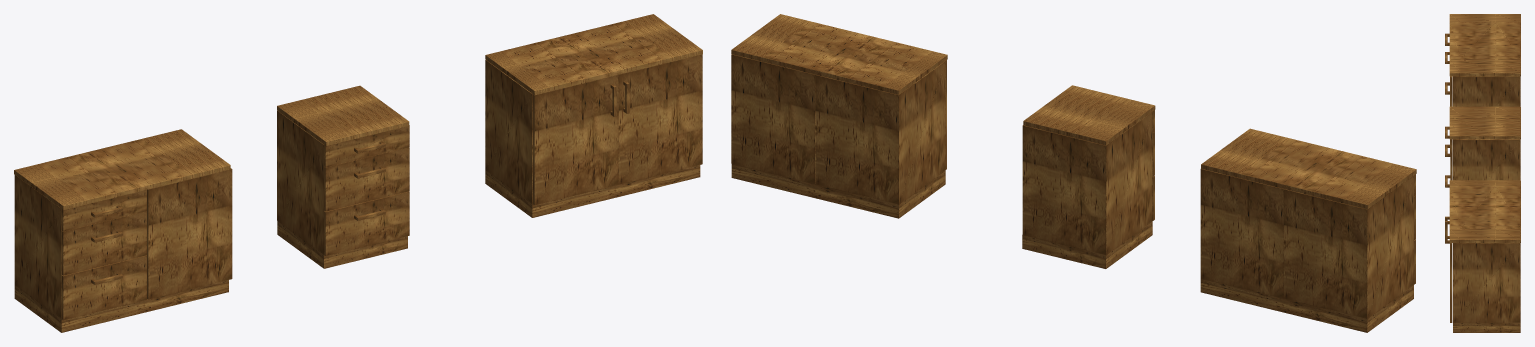
Rendered from Working_table.fbx.
The picture shows the model from 3 angles, left to right: view 1: azimuth 30°, elevation 25°; view 2: azimuth 150°, elevation 25°; view 3: azimuth 270°, elevation 25°; orthographic projection. The views are drawn at different scales.
Parts seen in each view (by area): view 1: Table_3, table_1, Table_2; view 2: table_1, Table_3, Table_2; view 3: table_1, Table_3, Table_2.
Part boxes in pixels (x1=…): Table_3: x1=14, y1=129, x2=232, y2=332; table_1: x1=485, y1=14, x2=702, y2=217; Table_2: x1=277, y1=85, x2=409, y2=268; table_1: x1=731, y1=14, x2=947, y2=218; Table_3: x1=1200, y1=128, x2=1416, y2=332; Table_2: x1=1022, y1=85, x2=1155, y2=268; table_1: x1=1445, y1=180, x2=1520, y2=332; Table_3: x1=1445, y1=14, x2=1520, y2=153; Table_2: x1=1445, y1=106, x2=1520, y2=187.
Size of the model in its own units: 457 by 87.91 by 64.78.
1 material, 1 textured.
